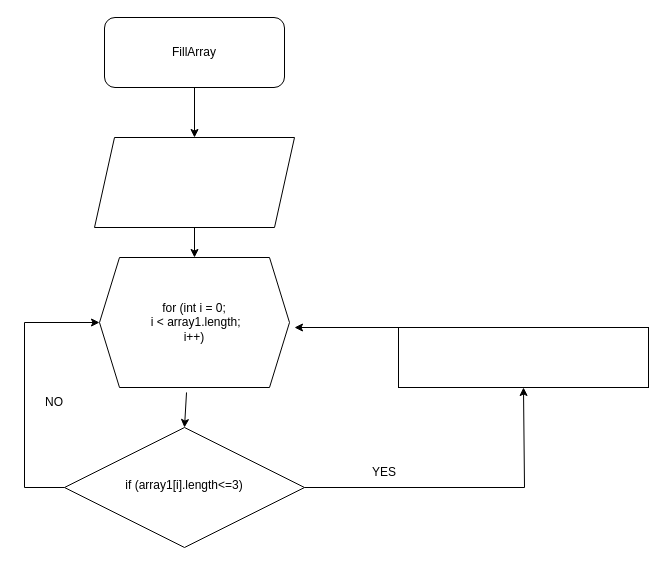
Image size: 666x565. Some labels were removed from this diagram. Here are the shapes that lost their labels. From the top down, the box of each, then its label:
(94, 136, 294, 228): string[]array1 string[]array2 int count=0
(398, 326, 648, 388): array2[count] = array1[i] count ++
